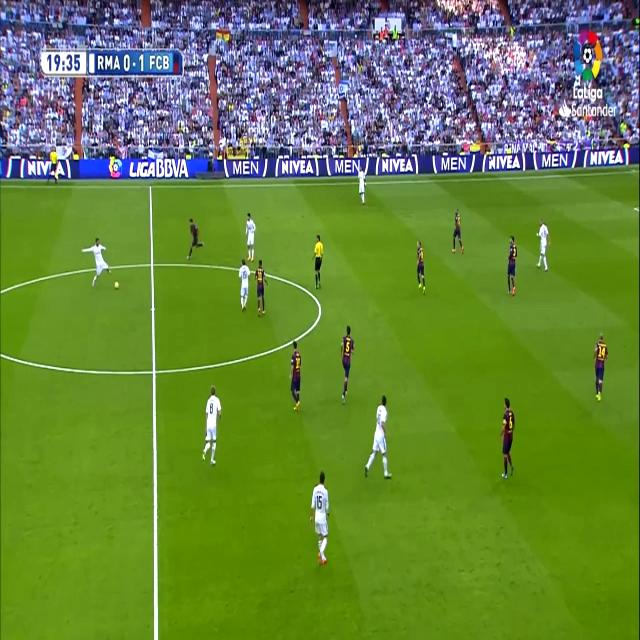bigarea_top_inner: (631, 198, 639, 216)
halfcircle_bottom: (148, 358, 160, 383)
halfcircle_top: (147, 252, 157, 274)
midline_top_intersection: (147, 180, 154, 192)
